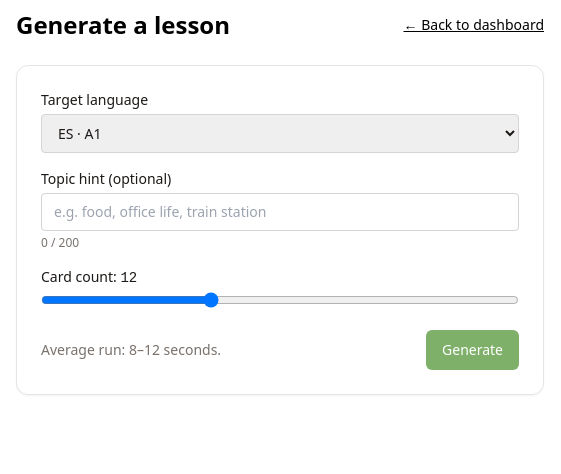
Scenario: GenerateLessonPage › surfaces a friendly message on RATE_LIMITED
Expected: the dropdown labelled "Target language" is shown, [41,114,519,153]
Click the button "Generate": (472, 350) [426,330,519,370]
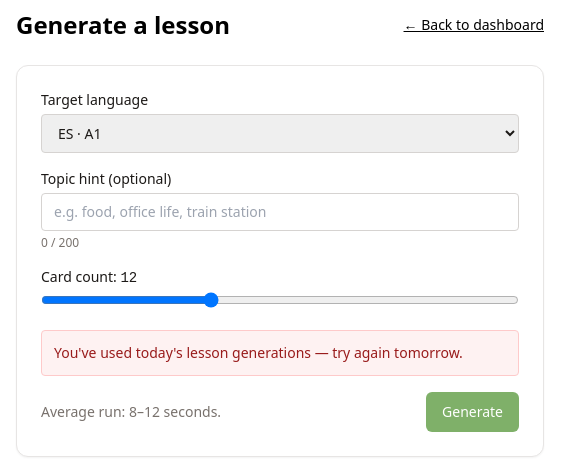
Result: the message shows "today's lesson generations" at [54,343,463,362]
